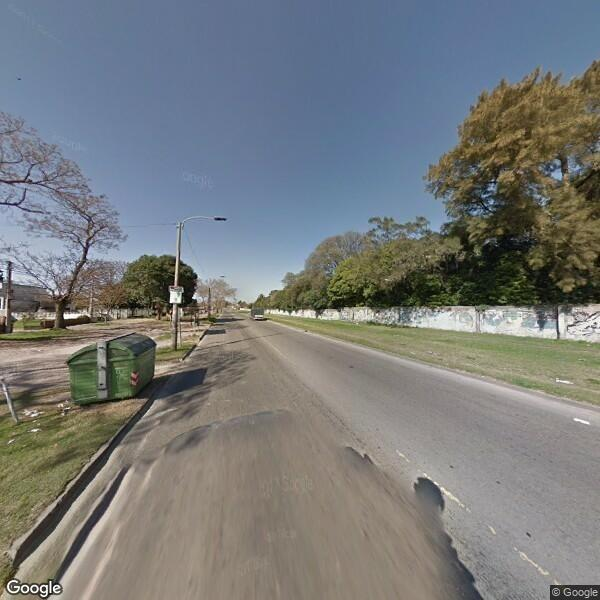Trash: (67, 330, 158, 404)
